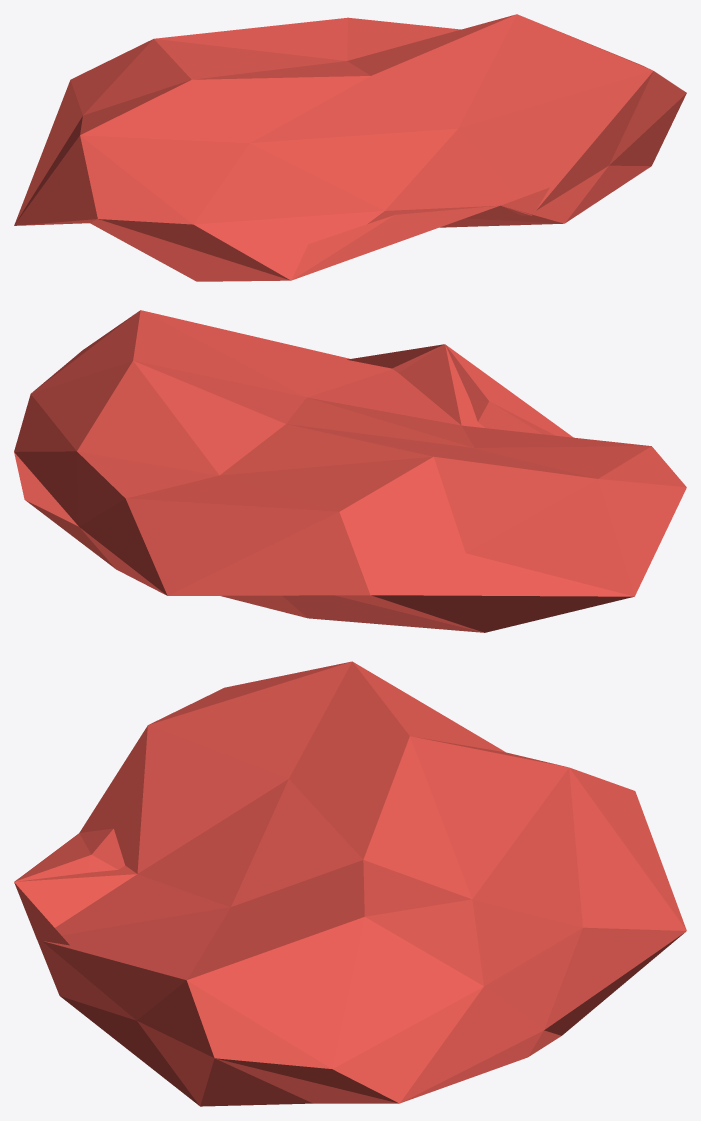
Rendered from wrapper_red.fbx.
3 renders of one model, top to bottom at view 1: azimuth 30°, elevation 25°; view 2: azimuth 150°, elevation 25°; view 3: azimuth 270°, elevation 25°, orthographic. The views are drawn at different scales.
Visible parts, largest first — view 1: wrapper_red; view 2: wrapper_red; view 3: wrapper_red.
Part boxes in pixels (left/top/right/bottom): wrapper_red: left=14, top=14, right=686, bottom=281; wrapper_red: left=14, top=310, right=686, bottom=632; wrapper_red: left=14, top=661, right=686, bottom=1106.
Size of the model in its own units: 0.0706 by 0.0167 by 0.055.
